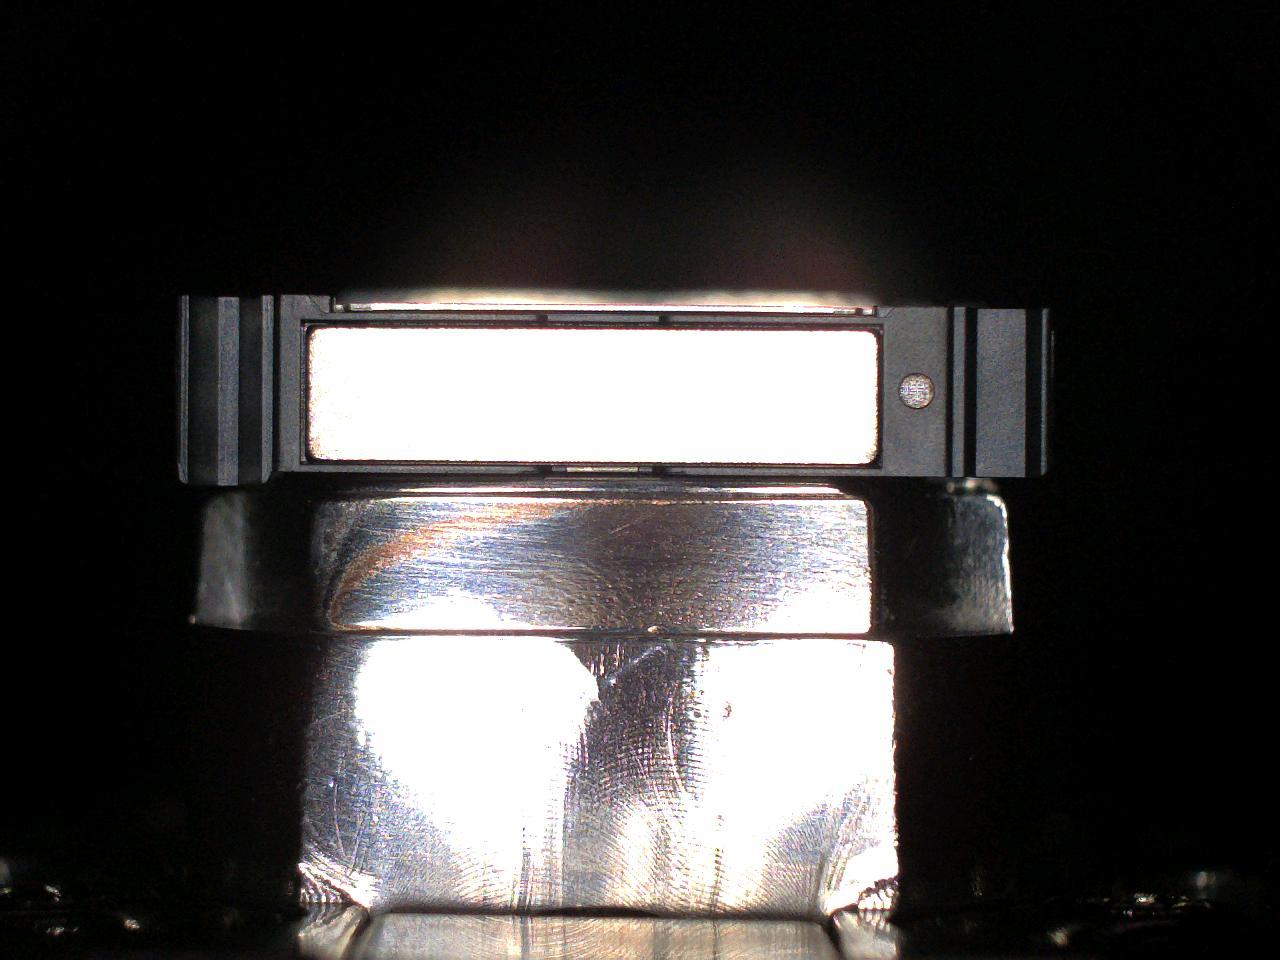frame: (178, 294, 1050, 485), (546, 312, 659, 323)
gap: (669, 321, 883, 332), (306, 319, 539, 329), (308, 460, 538, 467), (665, 461, 879, 468), (549, 322, 660, 330), (547, 461, 652, 468)
magnetic: (308, 328, 878, 466)
